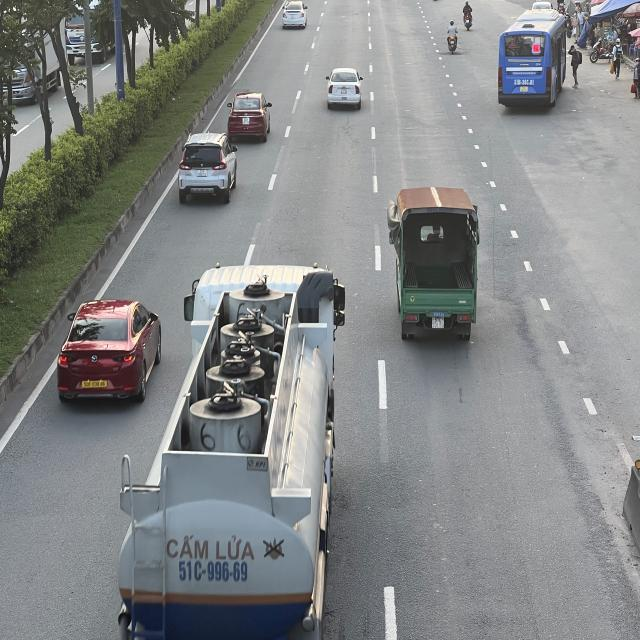car: (58, 300, 165, 407), (178, 132, 240, 203), (228, 93, 272, 143), (326, 67, 364, 111), (281, 0, 308, 30)
coach: (497, 11, 568, 110)
container: (118, 255, 342, 637)
truck: (389, 184, 479, 336)
